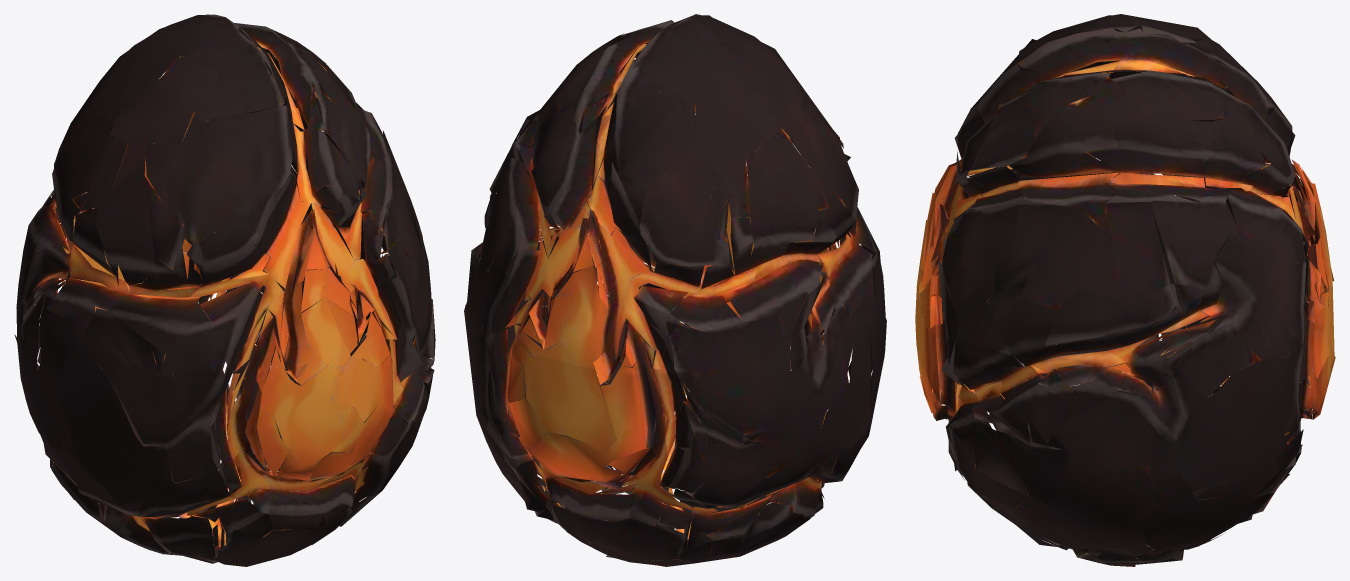
Rendered from ember.glb.
The picture shows the model from 3 angles, left to right: view 1: azimuth 30°, elevation 25°; view 2: azimuth 150°, elevation 25°; view 3: azimuth 270°, elevation 25°; orthographic projection.
Visible parts, largest first — view 1: Cap, Cup; view 2: Cap, Cup; view 3: Cap, Cup.
Part boxes in pixels (<box>): Cap: <box>19,14,431,375</box>; Cup: <box>14,203,435,566</box>; Cap: <box>468,14,882,378</box>; Cup: <box>464,203,886,566</box>; Cap: <box>917,14,1332,367</box>; Cup: <box>915,198,1335,566</box>.
Size of the model in its own units: 0.7389 by 1.01 by 0.7374.
1 material, 1 textured.
